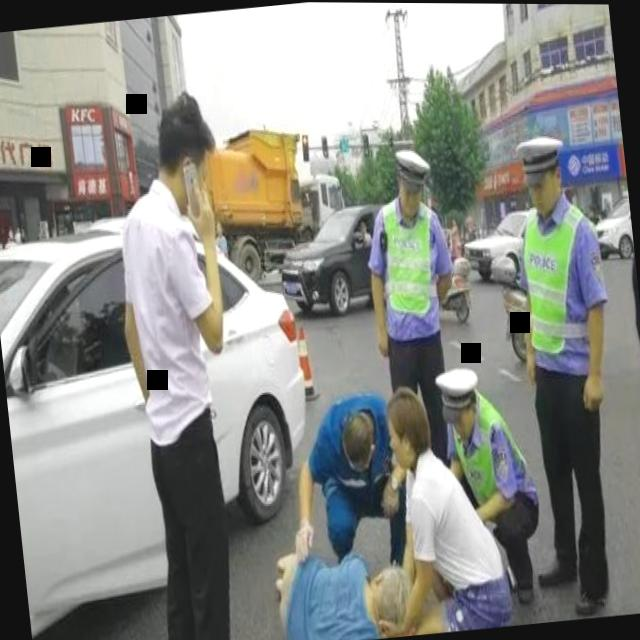Fall-Detected: (259, 514, 430, 640)
